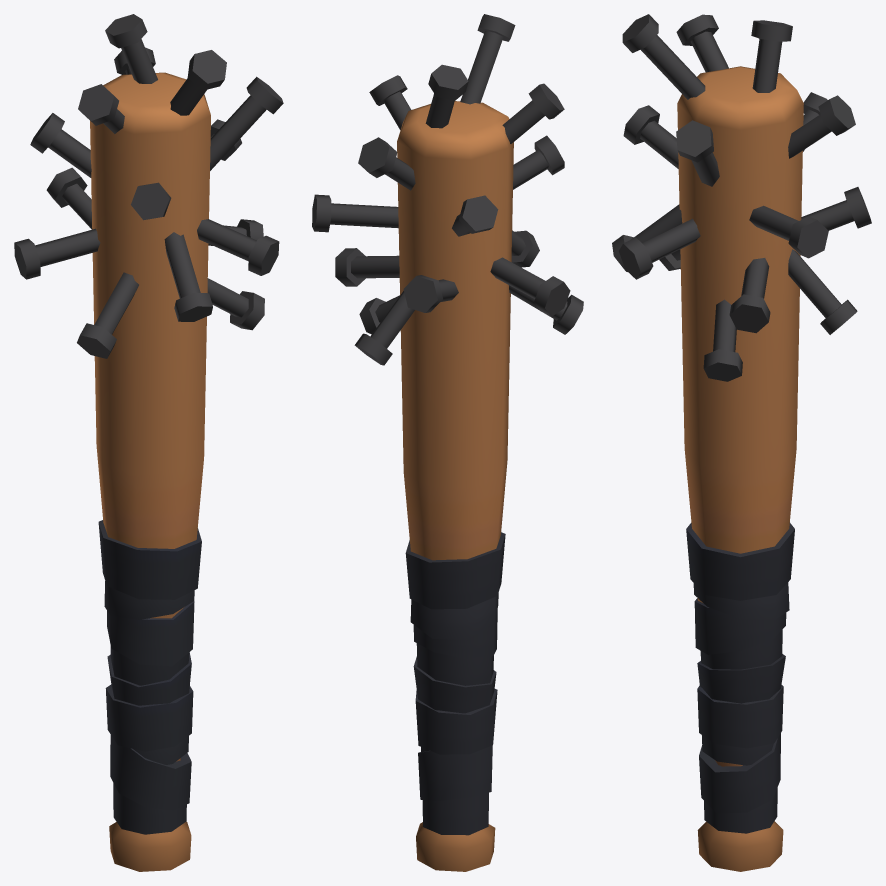
File: MeleeWeaponAgent_NailBat.fbx
The picture shows the model from 3 angles, left to right: view 1: azimuth 30°, elevation 25°; view 2: azimuth 150°, elevation 25°; view 3: azimuth 270°, elevation 25°; orthographic projection. The views are drawn at different scales.
Visible parts, largest first — view 1: Bat04; view 2: Bat04; view 3: Bat04.
Part boxes in pixels (x1,y1,x2,y2): Bat04: (14, 14, 283, 871); Bat04: (312, 14, 583, 871); Bat04: (612, 14, 871, 871).
Bounding box in the file's own units: 0.441 × 1.46 × 0.4082.
